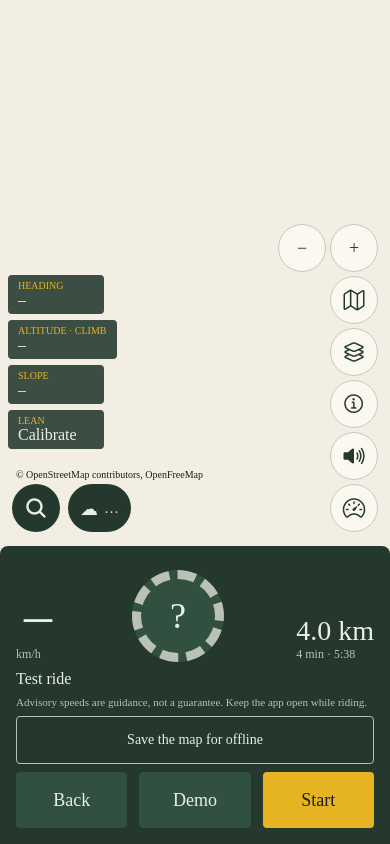
Test: lean switched on before the phone is calibrated asks to calibrate, and the sensors stay quiet
Click the button "Start".
click(318, 800)  # box [263,772,374,828]
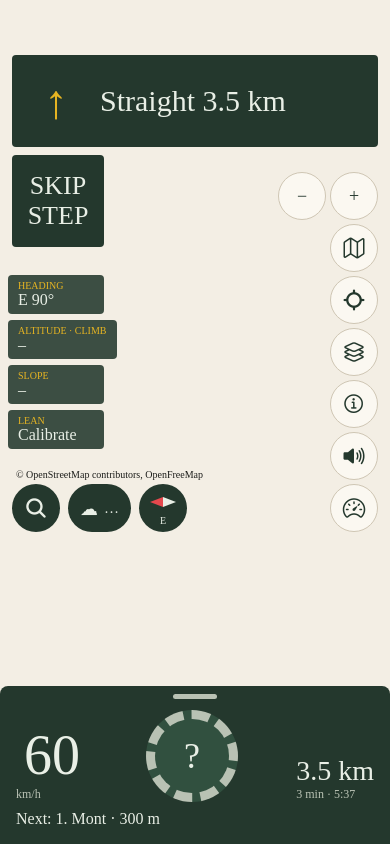
Expected: the text "Calibrate" is shown, [18,426,77,443]
Click the button with aria-label "Lean needs calibration. Open the gauges".
click(56, 430)  # box [8,410,104,449]
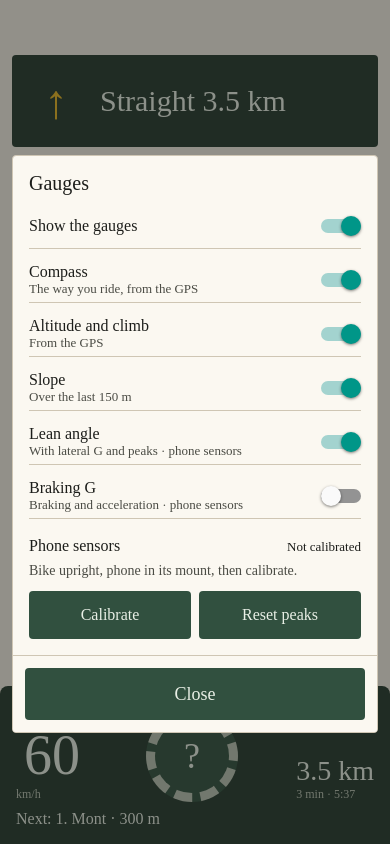
Result: the text "Not calibrated" is shown at [287,539,361,555]
